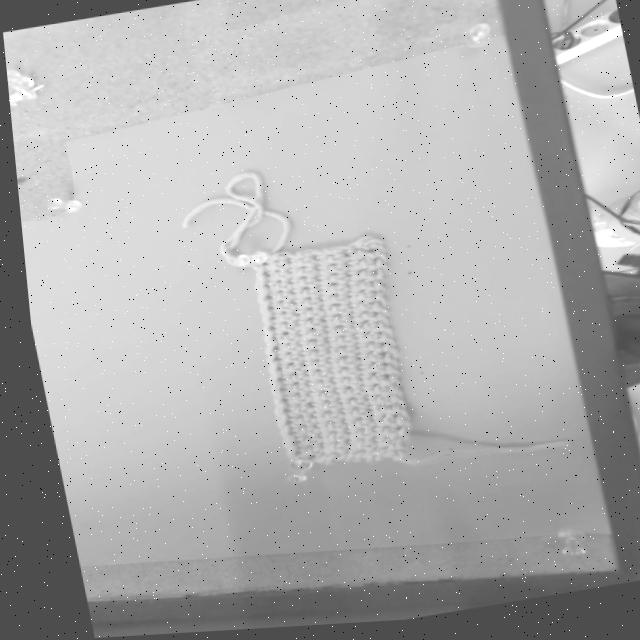ch: (384, 407, 399, 425), (370, 326, 386, 342), (380, 397, 395, 413), (376, 357, 389, 375), (367, 306, 380, 323), (368, 296, 380, 313), (378, 367, 389, 383), (386, 420, 399, 433), (382, 390, 394, 404), (377, 349, 388, 364), (364, 246, 379, 257), (389, 431, 398, 449), (374, 338, 386, 351), (369, 263, 379, 278), (369, 253, 379, 268), (370, 317, 380, 331), (368, 285, 377, 300), (379, 378, 389, 391), (369, 275, 376, 290)
sc: (268, 402, 289, 421), (269, 414, 291, 430), (349, 355, 378, 367), (308, 446, 337, 458), (261, 372, 284, 387), (344, 261, 368, 275), (266, 392, 287, 408), (341, 252, 371, 263), (274, 436, 296, 451), (323, 360, 348, 373), (349, 333, 374, 346), (264, 383, 285, 398), (271, 425, 292, 440), (319, 339, 347, 350), (261, 362, 283, 376), (252, 278, 271, 294), (256, 312, 276, 327), (259, 342, 279, 357), (363, 408, 384, 422), (340, 295, 366, 306), (278, 446, 297, 461), (343, 316, 371, 326), (283, 419, 308, 430), (314, 277, 341, 287), (260, 353, 279, 367), (280, 408, 302, 420), (348, 347, 374, 357), (342, 275, 368, 285), (355, 367, 378, 378), (259, 264, 282, 275), (285, 429, 308, 440), (366, 420, 387, 432), (327, 415, 348, 427), (322, 350, 347, 360), (342, 284, 367, 294), (314, 288, 341, 297), (305, 395, 327, 406), (287, 269, 309, 280), (325, 372, 349, 382), (344, 422, 364, 434), (265, 294, 285, 306), (254, 302, 272, 315), (315, 435, 336, 446), (269, 325, 290, 336), (315, 268, 338, 278), (318, 309, 341, 319), (297, 364, 320, 374), (350, 304, 369, 316), (360, 377, 379, 389), (319, 257, 338, 269), (297, 321, 316, 333), (253, 289, 272, 301), (322, 320, 344, 330), (328, 381, 350, 391), (303, 261, 323, 272), (332, 436, 352, 447), (308, 416, 330, 426), (305, 456, 327, 466), (291, 449, 311, 460), (267, 315, 287, 326), (267, 305, 287, 316), (367, 431, 385, 443), (307, 384, 325, 396), (304, 373, 322, 385), (274, 356, 292, 368), (295, 353, 316, 363), (345, 369, 364, 380), (321, 395, 340, 406), (316, 425, 335, 436), (312, 405, 331, 416), (299, 343, 318, 354), (298, 332, 317, 343), (294, 291, 313, 302), (289, 259, 308, 270), (280, 306, 299, 317), (315, 299, 341, 307), (346, 443, 362, 456), (260, 332, 277, 344), (335, 307, 355, 317), (334, 267, 354, 277), (303, 273, 323, 283), (291, 281, 311, 291), (283, 327, 303, 337), (296, 410, 316, 420), (322, 330, 344, 339), (363, 389, 381, 400), (337, 412, 359, 421), (336, 391, 354, 402), (295, 301, 313, 312), (295, 400, 313, 411), (283, 386, 301, 397), (290, 440, 308, 451), (360, 445, 376, 457), (369, 441, 385, 453), (297, 254, 321, 262), (338, 327, 357, 337), (350, 403, 369, 413), (364, 400, 383, 410), (314, 366, 333, 376), (324, 406, 343, 416), (332, 447, 351, 457), (281, 317, 300, 327), (349, 325, 370, 334), (303, 284, 324, 293), (336, 296, 353, 307), (357, 423, 374, 434), (286, 347, 303, 358), (293, 378, 310, 389), (346, 379, 364, 389), (349, 394, 367, 404), (279, 296, 297, 306), (284, 338, 302, 348), (294, 389, 312, 399), (300, 430, 320, 439), (270, 337, 288, 347), (263, 285, 283, 294), (259, 323, 274, 335), (280, 455, 300, 464), (341, 361, 363, 369), (311, 324, 327, 335), (272, 257, 294, 265), (280, 377, 296, 388), (279, 367, 295, 378), (343, 339, 362, 348), (278, 286, 297, 295), (335, 286, 352, 296), (345, 433, 362, 443), (297, 312, 314, 322), (306, 440, 321, 451), (354, 414, 372, 423), (334, 259, 352, 268), (314, 356, 332, 365), (320, 386, 338, 395), (263, 275, 281, 284), (333, 277, 353, 285), (340, 402, 356, 412), (309, 314, 325, 324), (311, 336, 331, 344), (328, 249, 348, 257), (273, 346, 289, 356), (285, 397, 298, 409), (337, 320, 358, 327), (331, 428, 349, 436), (287, 359, 305, 367), (277, 277, 294, 285), (359, 436, 374, 445), (343, 350, 362, 357), (307, 294, 323, 302), (308, 304, 324, 312), (314, 346, 330, 354), (318, 377, 334, 385), (277, 267, 293, 275), (291, 369, 305, 377)
